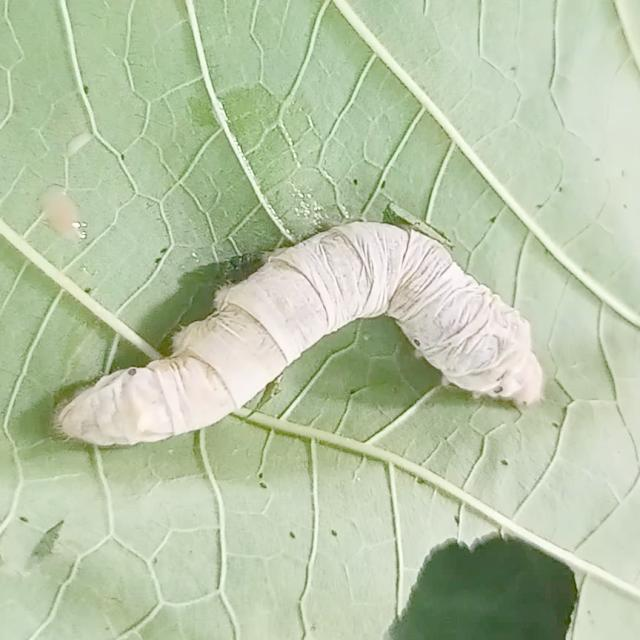Grasserie: (47, 215, 562, 455)
